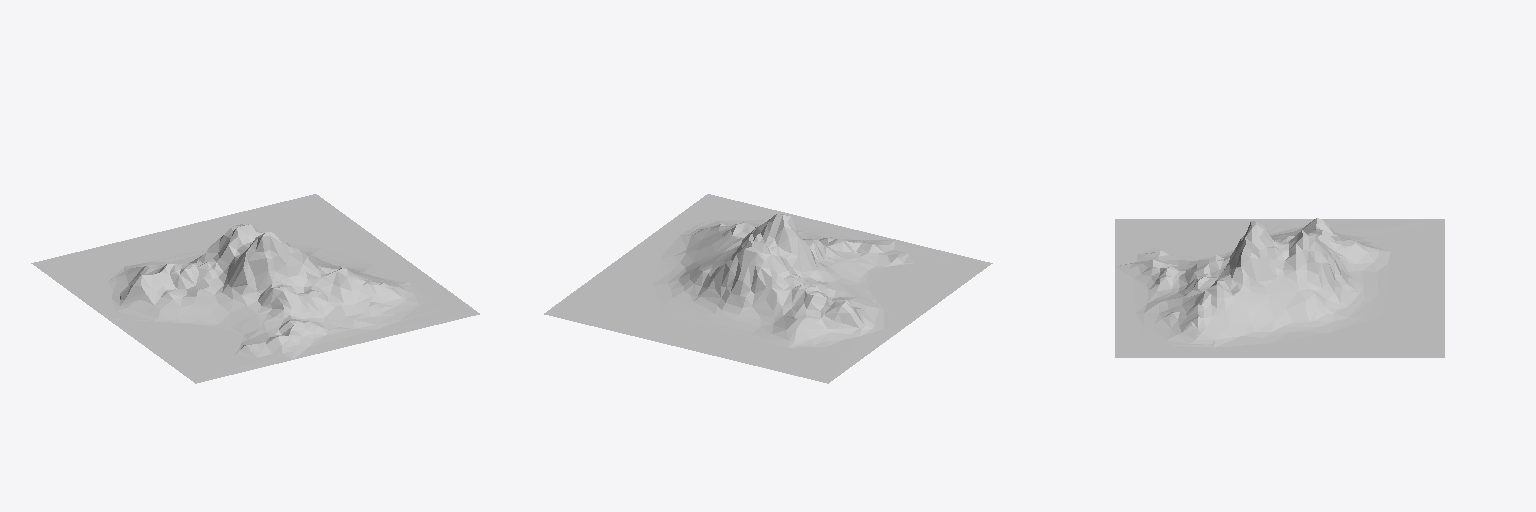
File: island1A.obj
3 renders of one model, left to right at view 1: azimuth 30°, elevation 25°; view 2: azimuth 150°, elevation 25°; view 3: azimuth 270°, elevation 25°, orthographic.
Visible parts, largest first — view 1: Plane; view 2: Plane; view 3: Plane.
Boxes of the visible parts, x1=… form: Plane: x1=31, y1=194, x2=479, y2=383; Plane: x1=544, y1=194, x2=992, y2=383; Plane: x1=1115, y1=218, x2=1444, y2=357.
Bounding box in the file's own units: 9.2 × 2.02 × 9.2.